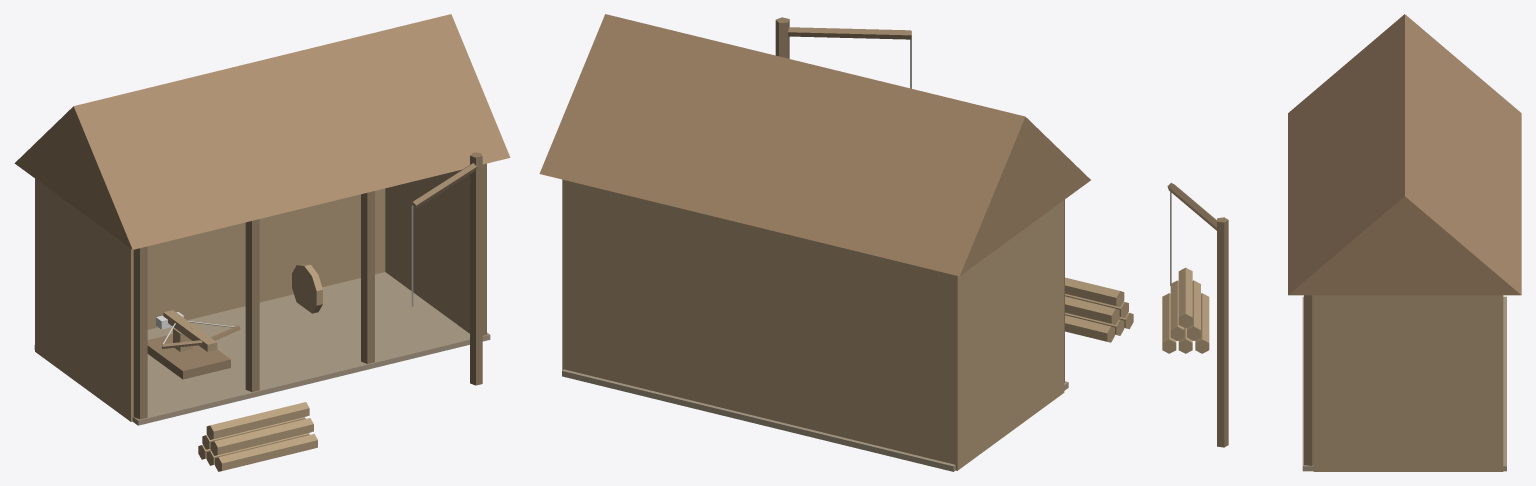
The picture shows the model from 3 angles, left to right: view 1: azimuth 30°, elevation 25°; view 2: azimuth 150°, elevation 25°; view 3: azimuth 270°, elevation 25°; orthographic projection. The views are drawn at different scales.
Parts seen in each view (by area): view 1: body, ws_crossbow; view 2: body; view 3: body.
Boxes of the visible parts, x1=… form: body: x1=14, y1=14, x2=510, y2=471; ws_crossbow: x1=156, y1=310, x2=240, y2=351; body: x1=539, y1=14, x2=1133, y2=471; body: x1=1162, y1=14, x2=1521, y2=471.
Bounding box in the file's own units: 11.8 × 8.5 × 9.84.
